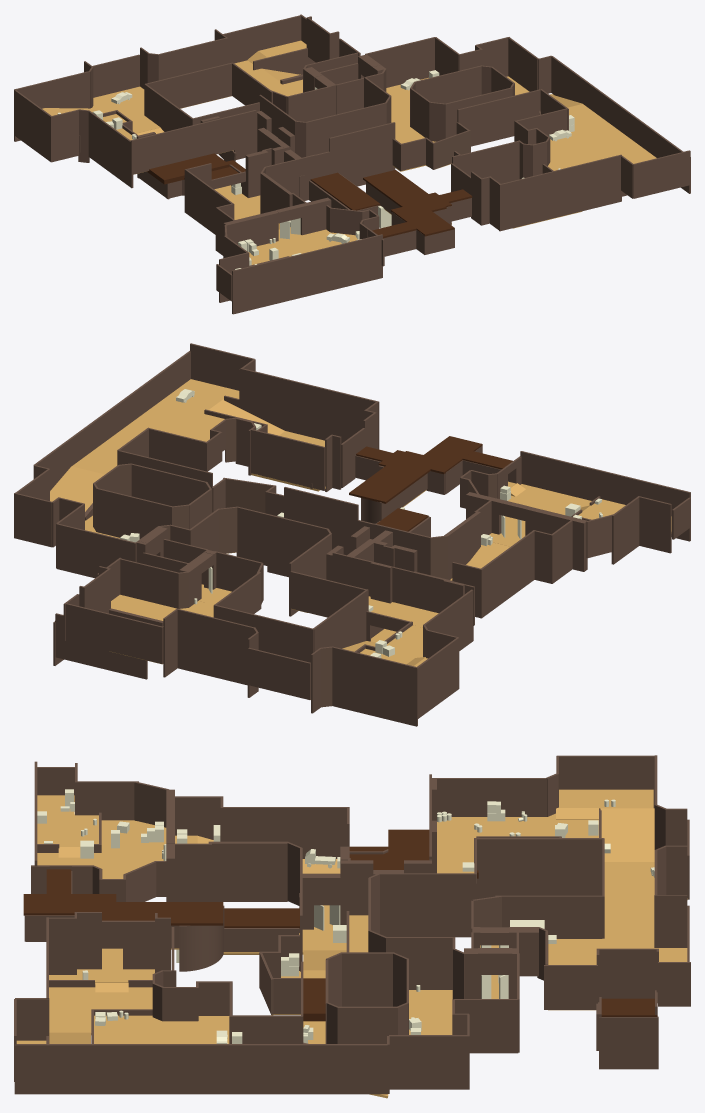
File: Dust2 Map Iteration 1.fbx
3 renders of one model, top to bottom at view 1: azimuth 30°, elevation 25°; view 2: azimuth 150°, elevation 25°; view 3: azimuth 270°, elevation 25°, orthographic. The views are drawn at different scales.
Parts seen in each view (by area): view 1: Cube__34__1, Cube__7__1, Cube__120_, Cube__4__1, Cube__28__1, Cube__22__1, Cube, Cube__115_, Cube__81_, Cube__100_, Cube__17__1, Cube__123_ (+56 smaller); view 2: Cube__7__1, Cube__118_, Cube__34__1, Cube__4__1, Cube__109_, Cube__100_, Cube__81_, Cube__11__1, Cube__120_, Cube__17__1, Cube__153_, Cube__19__1 (+56 smaller); view 3: Cube__4__1, Cube__119_, Cube__131_, Cube__153_, Cube__33__1, Cube__13__1, Cube__35_, Cube__123_, Cube__99_, Cube__121_, Cube__4_, Cube__103_ (+67 smaller).
Boxes of the visible parts, x1,y1,x2,y2 form: Cube__34__1: (232,234,382,314); Cube__7__1: (499,154,621,231); Cube__120_: (130,110,256,174); Cube__4__1: (551,56,690,193); Cube__28__1: (329,122,395,186); Cube__22__1: (457,89,540,146); Cube: (550,123,656,169); Cube__115_: (144,62,233,114); Cube__81_: (306,102,386,156); Cube__100_: (223,15,301,63); Cube__17__1: (365,37,435,87); Cube__123_: (88,111,133,188); Cube__7__1: (240,368,379,449); Cube__118_: (332,646,417,726); Cube__34__1: (520,451,690,541); Cube__4__1: (33,351,190,490); Cube__109_: (177,608,254,685); Cube__100_: (66,603,163,663); Cube__81_: (236,506,327,571); Cube__11__1: (249,429,325,490); Cube__120_: (332,552,474,625); Cube__17__1: (56,523,136,578); Cube__153_: (479,530,534,618); Cube__19__1: (96,488,172,538); Cube__4__1: (14,1044,387,1094); Cube__119_: (474,838,603,898); Cube__131_: (380,873,476,937); Cube__153_: (222,807,349,858); Cube__33__1: (208,841,287,901); Cube__13__1: (389,1035,467,1089); Cube__35_: (603,862,656,948); Cube__123_: (432,778,547,816); Cube__99_: (495,895,602,938); Cube__121_: (556,755,654,808); Cube__4_: (49,987,152,1034); Cube__103_: (599,1016,658,1069).
Bounding box in the file's own units: 10598 × 1852 × 10198.
